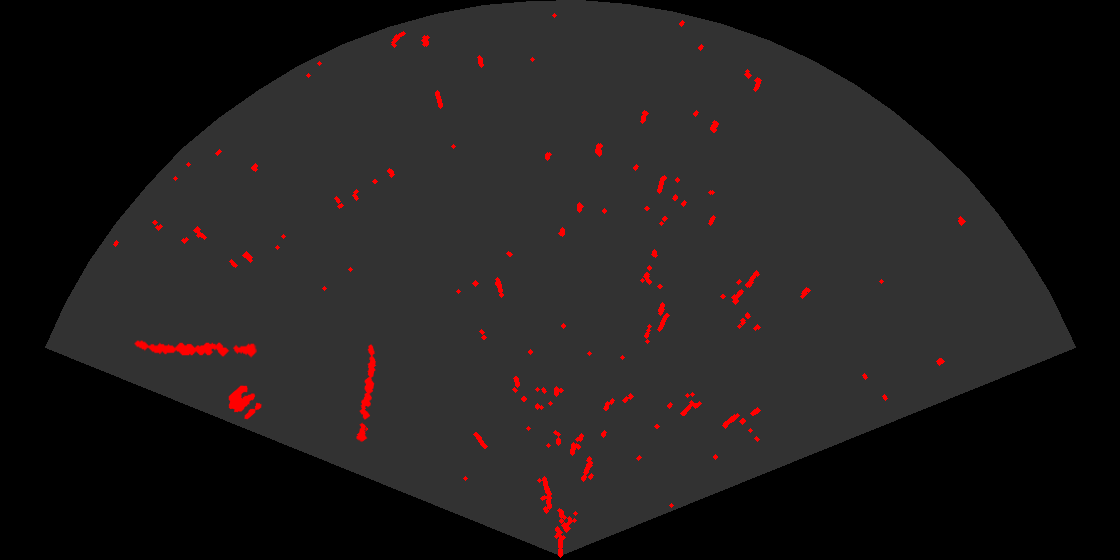ball: (227, 384, 263, 421)
chain: (133, 339, 257, 359), (355, 343, 378, 444)
